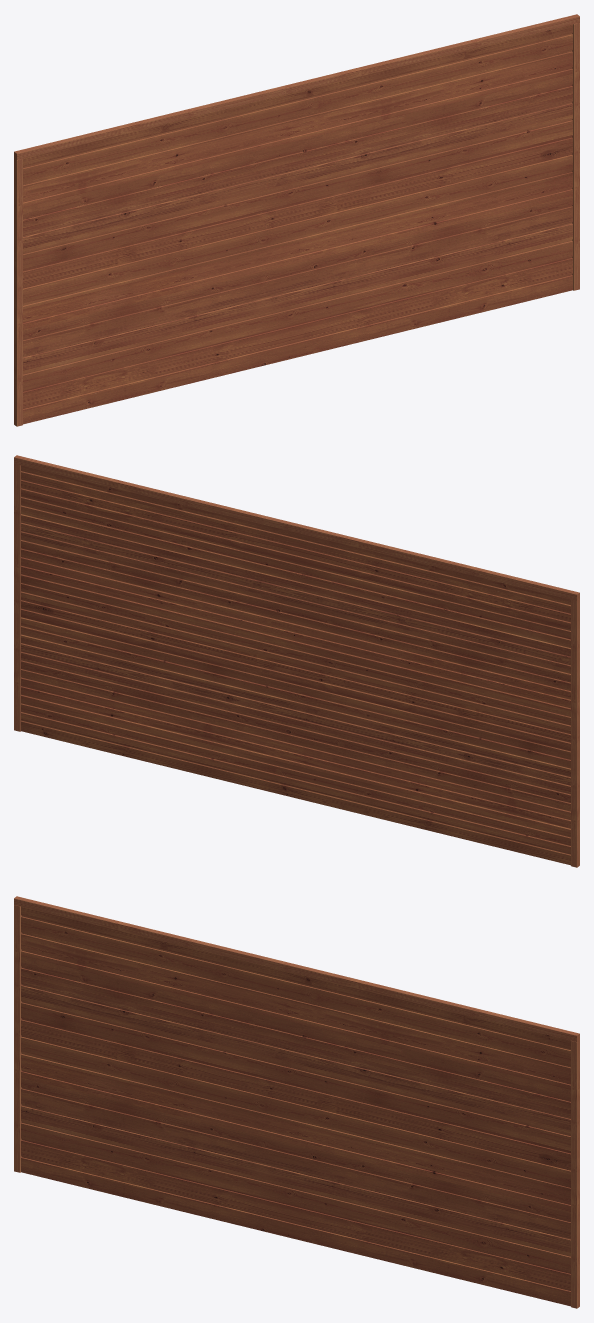
File: 17ftx7.875ft.obj
The picture shows the model from 3 angles, top to bottom: view 1: azimuth 30°, elevation 25°; view 2: azimuth 150°, elevation 25°; view 3: azimuth 330°, elevation 25°; orthographic projection.
Parts seen in each view (by area): view 1: wall_planks, trim_top, trim_left, trim_right; view 2: wall_planks, trim_top, trim_left, trim_right; view 3: wall_planks, trim_top, trim_right, trim_left.
Part boxes in pixels (x1,y1,x2,y2): wall_planks: [23, 24, 572, 424]; trim_top: [14, 14, 579, 159]; trim_left: [14, 158, 22, 426]; trim_right: [572, 23, 579, 290]; wall_planks: [21, 465, 570, 865]; trim_top: [14, 455, 579, 600]; trim_left: [571, 599, 579, 867]; trim_right: [14, 464, 21, 731]; wall_planks: [21, 906, 570, 1306]; trim_top: [14, 896, 579, 1041]; trim_right: [571, 1040, 579, 1308]; trim_left: [14, 905, 21, 1172].
Bounding box in the file's own units: 204 × 94.5 × 1.82.
